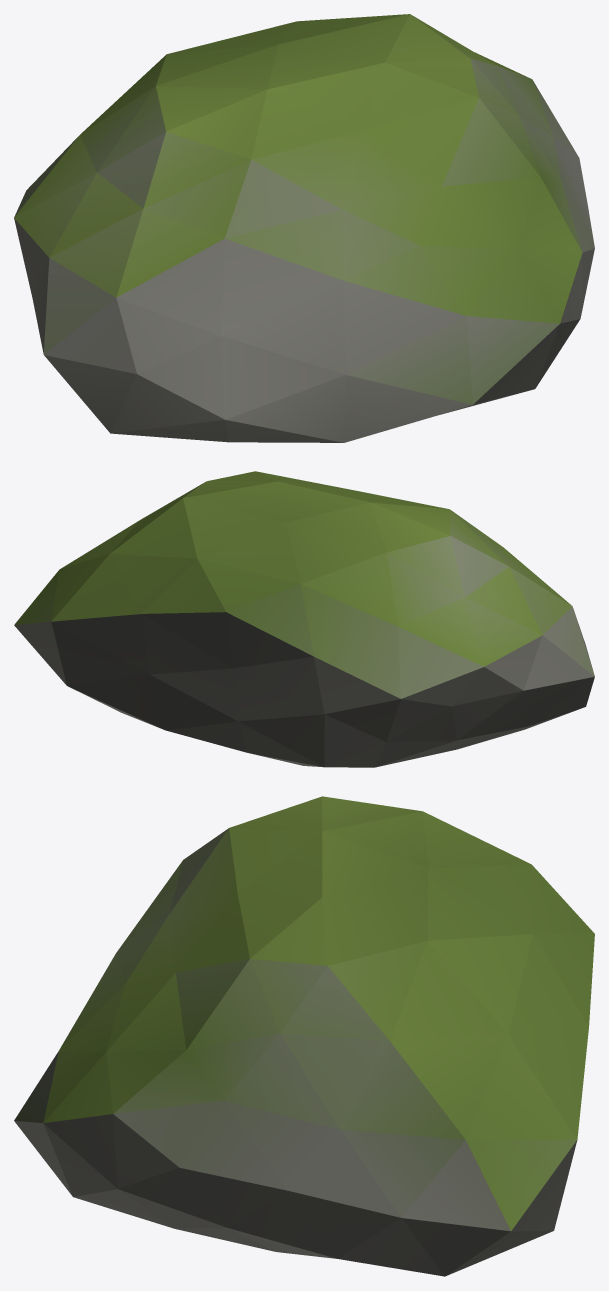
File: forest_rock_01.glb
The picture shows the model from 3 angles, top to bottom: view 1: azimuth 30°, elevation 25°; view 2: azimuth 150°, elevation 25°; view 3: azimuth 270°, elevation 25°; orthographic projection. The views are drawn at different scales.
Parts seen in each view (by area): view 1: forest_rock_01_rock; view 2: forest_rock_01_rock; view 3: forest_rock_01_rock.
Part boxes in pixels (box(x1,y1,x2,y2)): forest_rock_01_rock: box(14, 14, 594, 442); forest_rock_01_rock: box(14, 471, 594, 767); forest_rock_01_rock: box(14, 796, 594, 1276).
Size of the model in its own units: 2.74 by 1.24 by 2.01.
